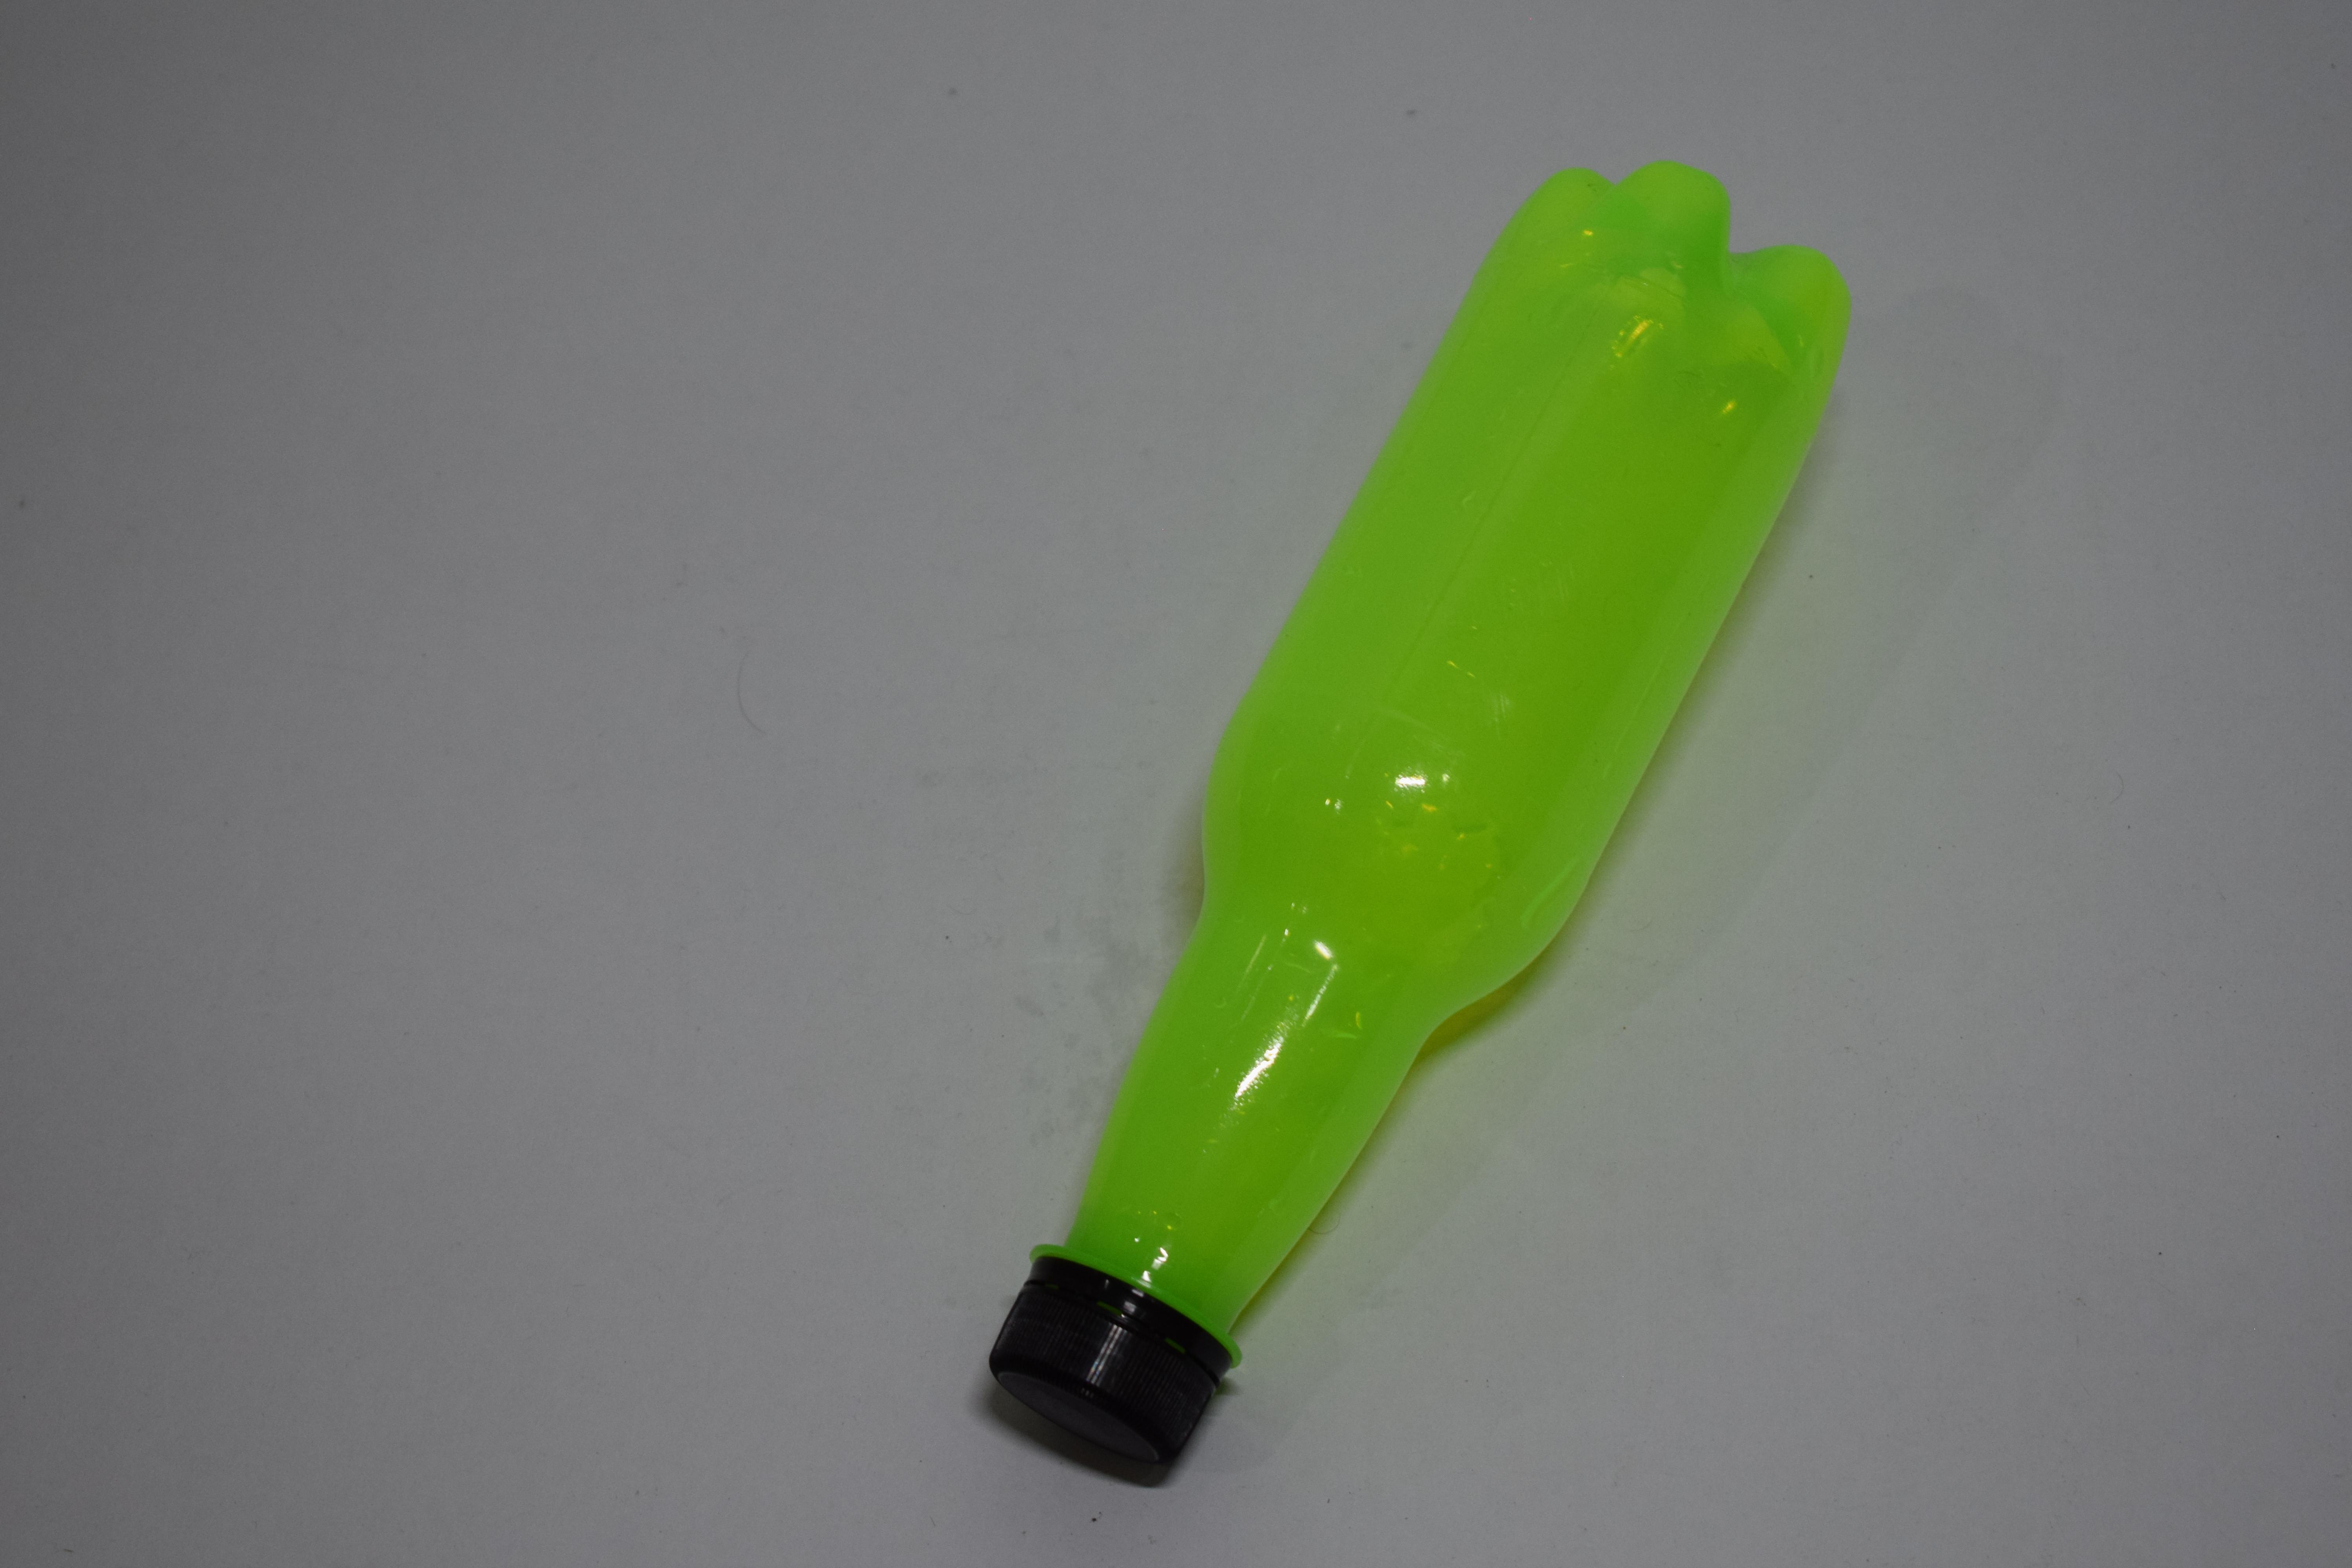bottle: (980, 0, 1852, 670)
